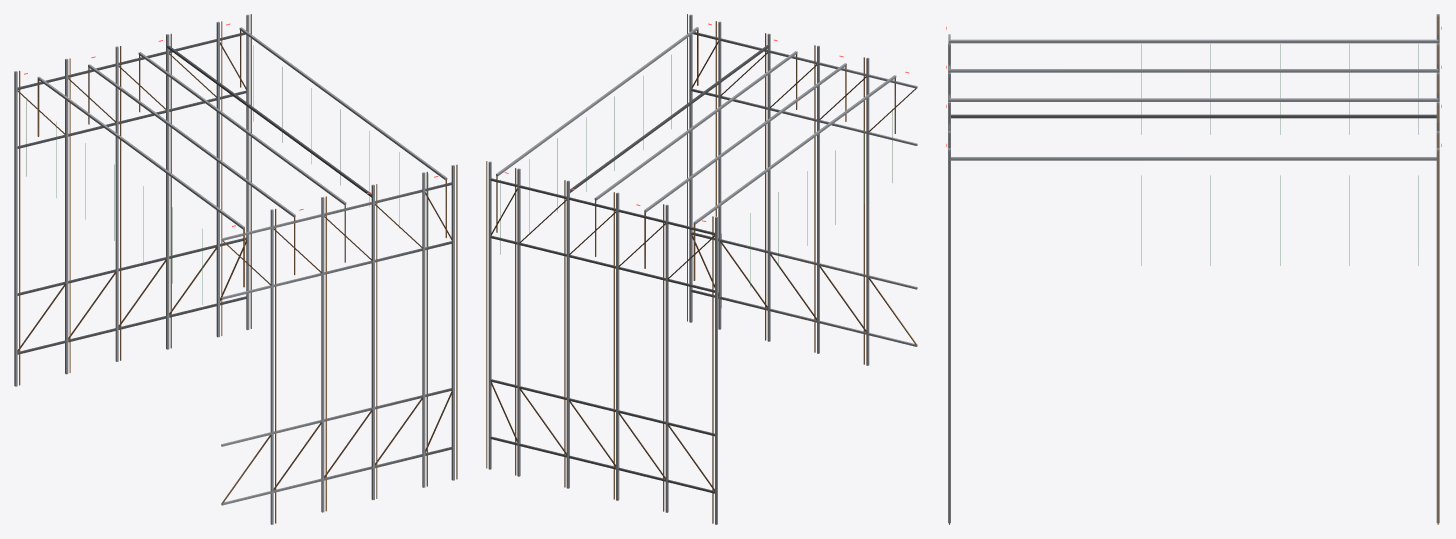
Rendered from 05_steel_skeleton.glb.
3 renders of one model, left to right at view 1: azimuth 30°, elevation 25°; view 2: azimuth 150°, elevation 25°; view 3: azimuth 270°, elevation 25°, orthographic. The views are drawn at different scales.
Parts seen in each view (by area): view 1: steel_skeleton_steel, steel_skeleton_steelrust_nocol, steel_skeleton_safetynet_nocol; view 2: steel_skeleton_steel, steel_skeleton_steelrust_nocol, steel_skeleton_safetynet_nocol; view 3: steel_skeleton_steel, steel_skeleton_steelrust_nocol, steel_skeleton_safetynet_nocol.
Boxes of the visible parts, <box> form: steel_skeleton_steel: <box>14,14,454,524</box>; steel_skeleton_steelrust_nocol: <box>17,14,457,523</box>; steel_skeleton_safetynet_nocol: <box>26,45,428,304</box>; steel_skeleton_steel: <box>488,14,917,524</box>; steel_skeleton_steelrust_nocol: <box>486,14,917,523</box>; steel_skeleton_safetynet_nocol: <box>500,55,892,307</box>; steel_skeleton_steel: <box>948,14,1439,523</box>; steel_skeleton_steelrust_nocol: <box>948,16,1438,524</box>; steel_skeleton_safetynet_nocol: <box>1141,44,1418,265</box>.
Bounding box in the file's own units: 84.25 × 107 × 128.
